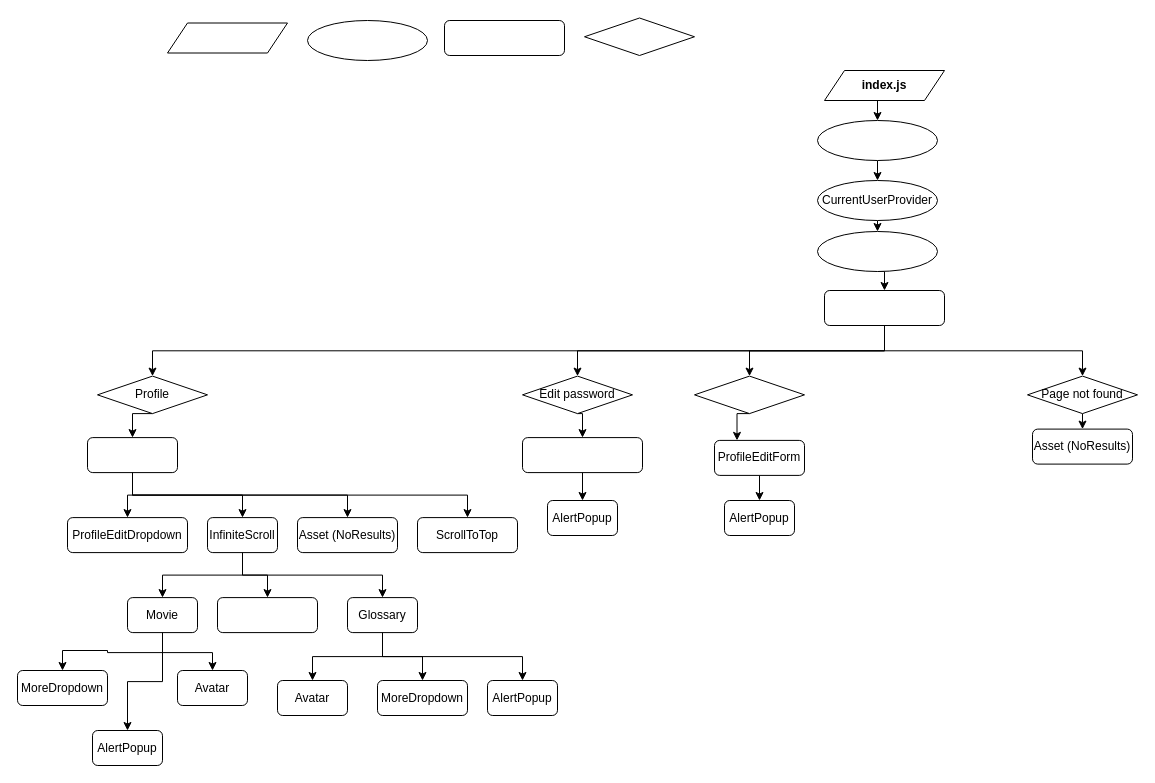
The diagram is 1155 pixels wide and 783 high, and some of its shapes have lost their labels. The centre of each missing label's shape, as x and y in pixels:
AlertProvider: the point at 877,140
App: the point at 884,308
Asset (spinner): the point at 267,615
Component: the point at 504,38
Context: the point at 367,40
Edit profile: the point at 749,394
Key: the point at 227,37
ProfileDataProvider: the point at 877,251
ProfilePage: the point at 132,455
Route: the point at 639,36
UserPasswordForm: the point at 582,455
